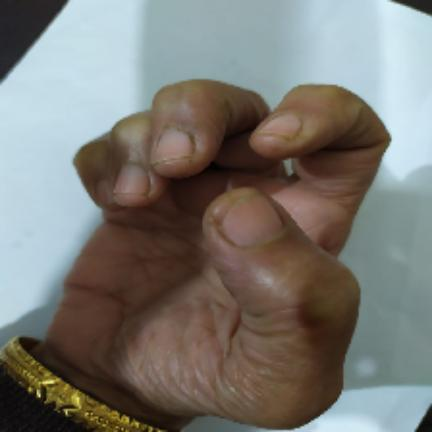Nail: (222, 197, 282, 247), (155, 127, 192, 161), (115, 163, 150, 194), (261, 114, 301, 135), (96, 180, 113, 205)
